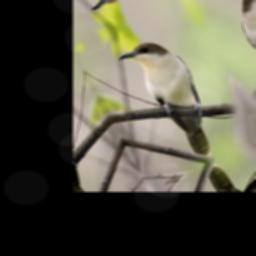Cuckoo: (116, 30, 231, 172)
